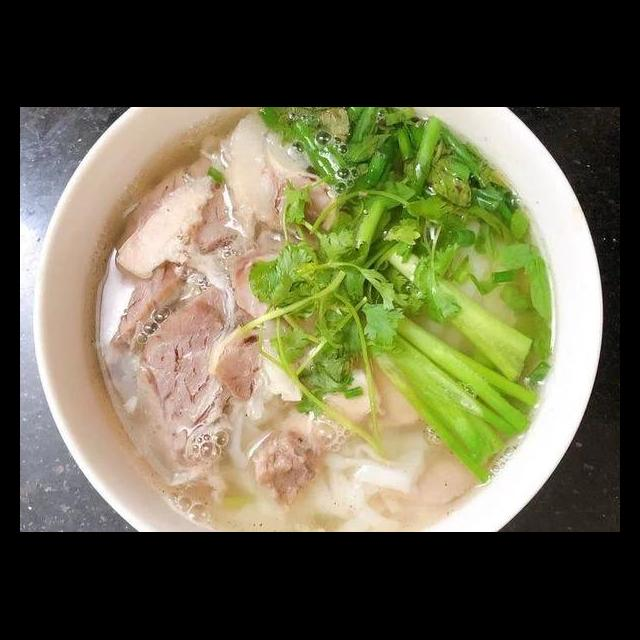thit bo: (116, 158, 333, 282), (129, 287, 265, 478), (111, 258, 193, 360), (253, 426, 325, 506)
